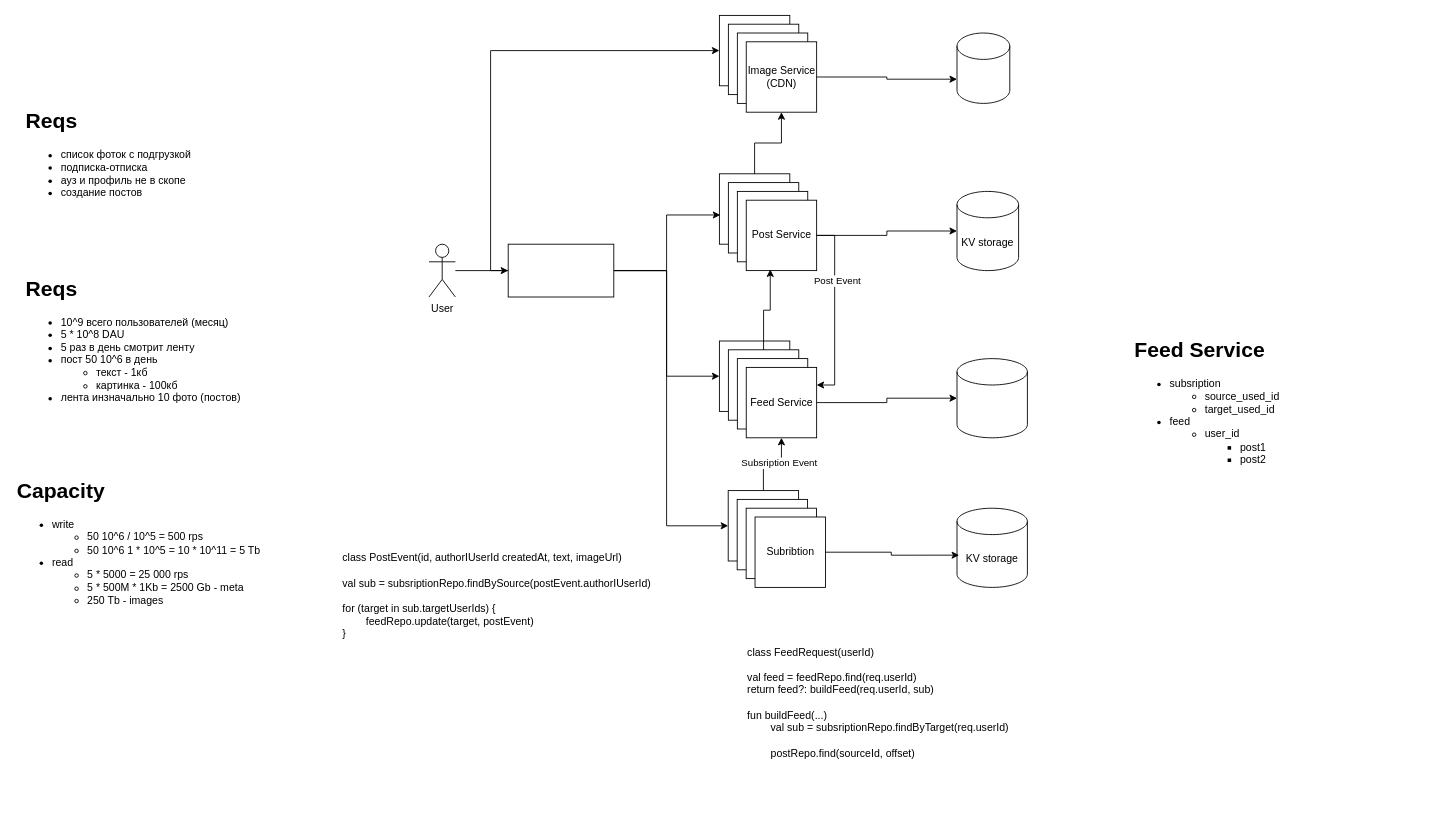
The diagram is 1429 pixels wide and 832 high, and some of its shapes have lost their labels. Each missing label, with the centre of its shape:
"LB / API Gateway" goes at point 560,270.
"Redis" goes at point 991,398.
"S3" goes at point 983,67.
